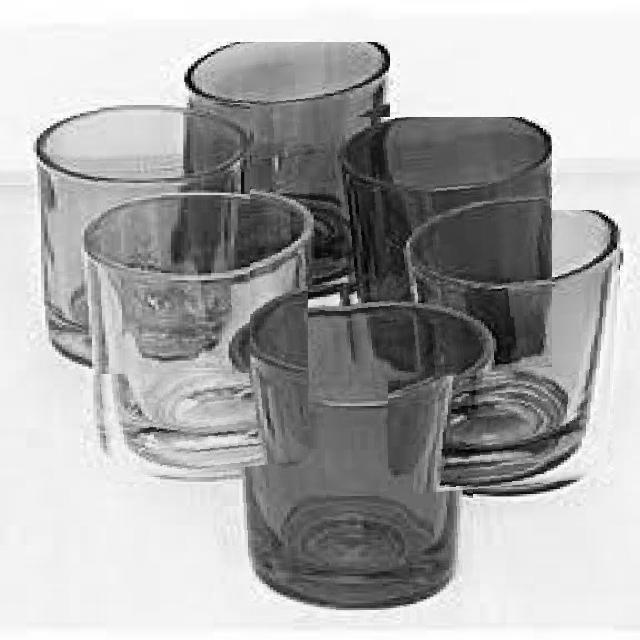Glass: (224, 300, 474, 610), (388, 210, 624, 498), (82, 192, 308, 482), (30, 104, 250, 376), (332, 117, 552, 384), (172, 42, 390, 300)
